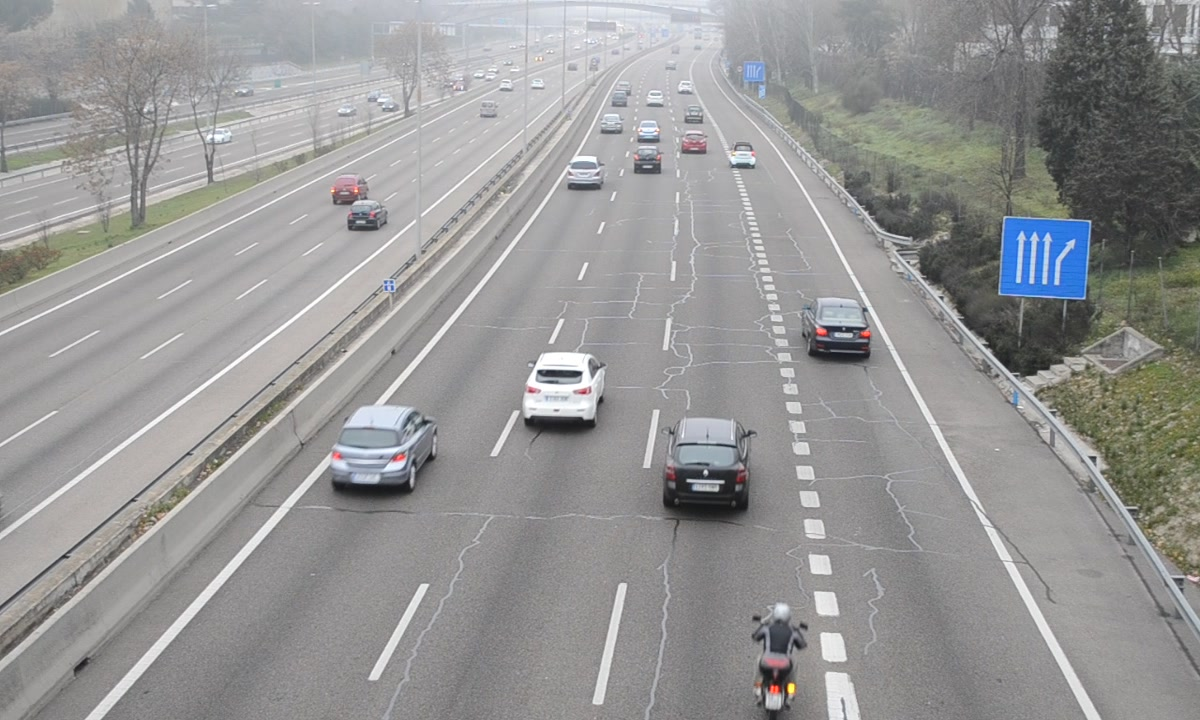car: (329, 405, 437, 493), (663, 420, 750, 512), (523, 352, 607, 429), (801, 297, 870, 358), (566, 156, 605, 191), (728, 139, 757, 170), (634, 145, 663, 174), (681, 130, 709, 156), (636, 119, 662, 144), (599, 113, 625, 136)
motorcycle: (747, 603, 812, 720)
